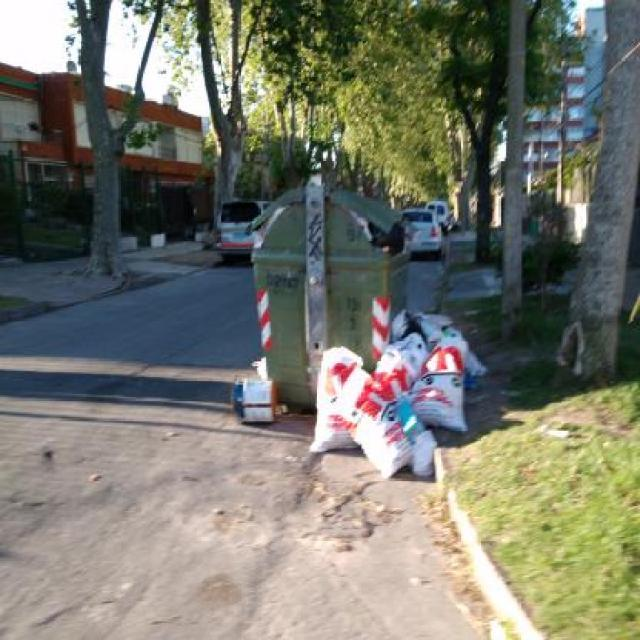garbage: (309, 291, 466, 486), (222, 371, 284, 428)
